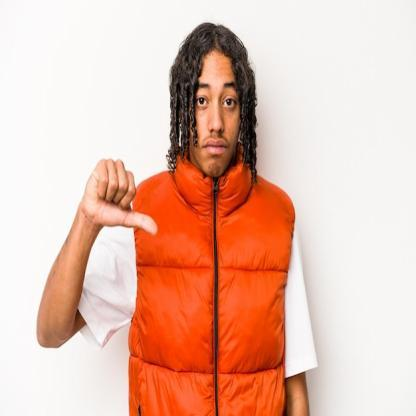thumb_down: (82, 154, 160, 240)
